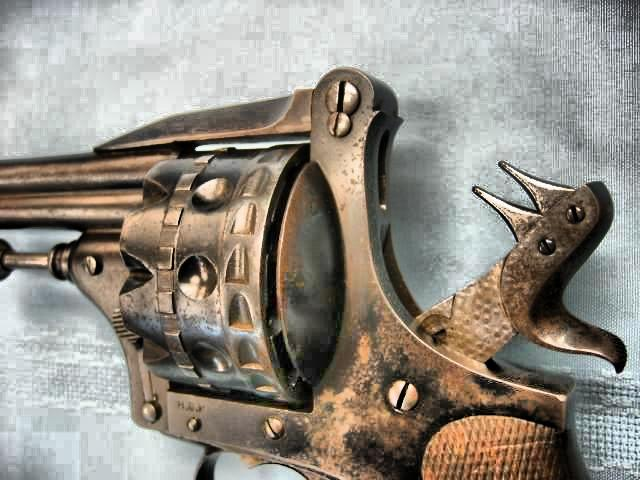pistol: (0, 65, 628, 478)
